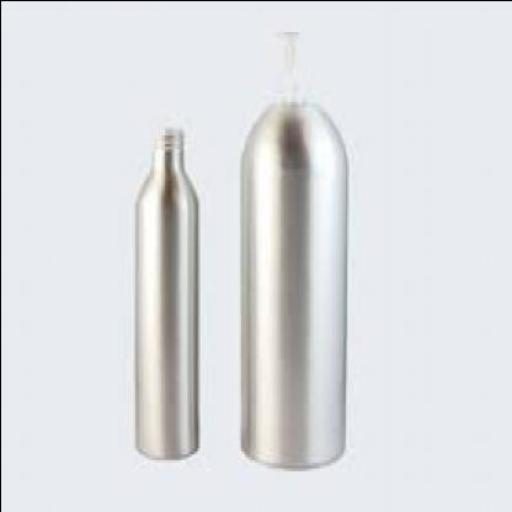metal: (236, 25, 342, 467), (130, 128, 196, 458)
